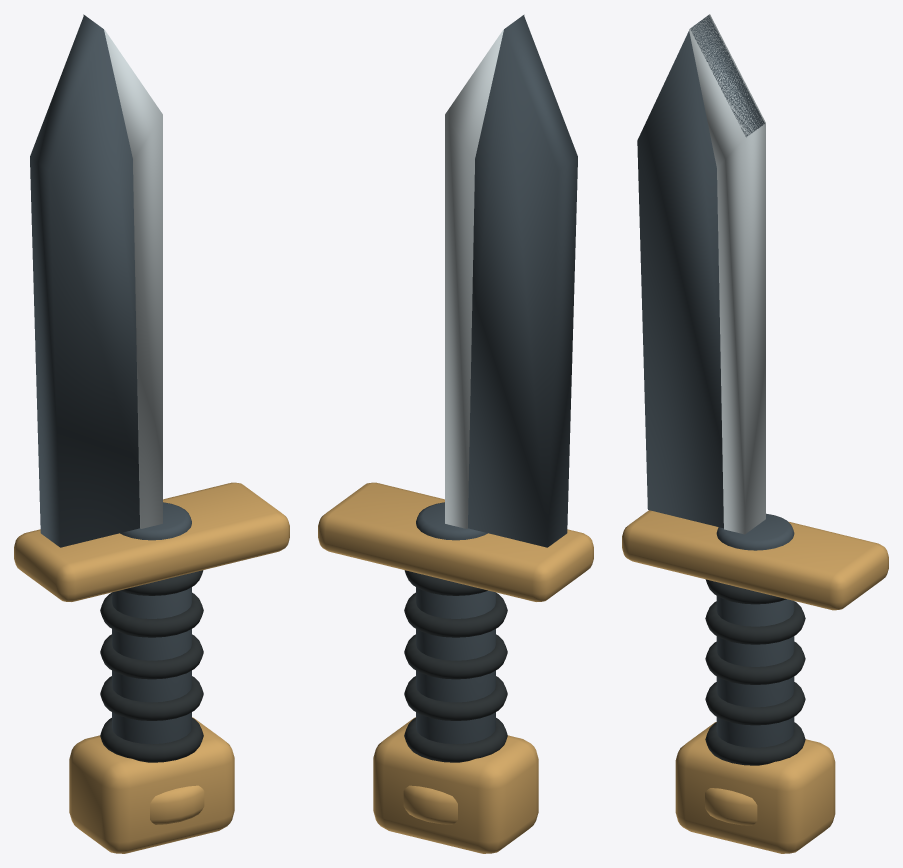
File: paired_blades.t4.glb
3 renders of one model, left to right at view 1: azimuth 30°, elevation 25°; view 2: azimuth 150°, elevation 25°; view 3: azimuth 330°, elevation 25°, orthographic. The views are drawn at different scales.
Parts seen in each view (by area): view 1: weapon_right__forged_bluelead_steel__protected, weapon_right__worn_warm_brass__protected, weapon_right__honed_steel_edge__protected, weapon_right__charcoal_rubber__protected; view 2: weapon_right__forged_bluelead_steel__protected, weapon_right__worn_warm_brass__protected, weapon_right__honed_steel_edge__protected, weapon_right__charcoal_rubber__protected; view 3: weapon_right__forged_bluelead_steel__protected, weapon_right__worn_warm_brass__protected, weapon_right__honed_steel_edge__protected, weapon_right__charcoal_rubber__protected.
Boxes of the visible parts, x1=… form: weapon_right__forged_bluelead_steel__protected: x1=30, y1=15, x2=191, y2=744; weapon_right__worn_warm_brass__protected: x1=14, y1=482, x2=289, y2=853; weapon_right__honed_steel_edge__protected: x1=83, y1=14, x2=162, y2=528; weapon_right__charcoal_rubber__protected: x1=100, y1=570, x2=203, y2=762; weapon_right__forged_bluelead_steel__protected: x1=416, y1=15, x2=577, y2=744; weapon_right__worn_warm_brass__protected: x1=318, y1=482, x2=593, y2=853; weapon_right__honed_steel_edge__protected: x1=445, y1=14, x2=524, y2=528; weapon_right__charcoal_rubber__protected: x1=404, y1=570, x2=507, y2=762; weapon_right__forged_bluelead_steel__protected: x1=637, y1=15, x2=794, y2=747; weapon_right__worn_warm_brass__protected: x1=622, y1=510, x2=888, y2=853; weapon_right__honed_steel_edge__protected: x1=689, y1=14, x2=765, y2=534; weapon_right__charcoal_rubber__protected: x1=705, y1=579, x2=805, y2=765.
Size of the model in its own units: 0.3392 by 1.15 by 0.1505.
